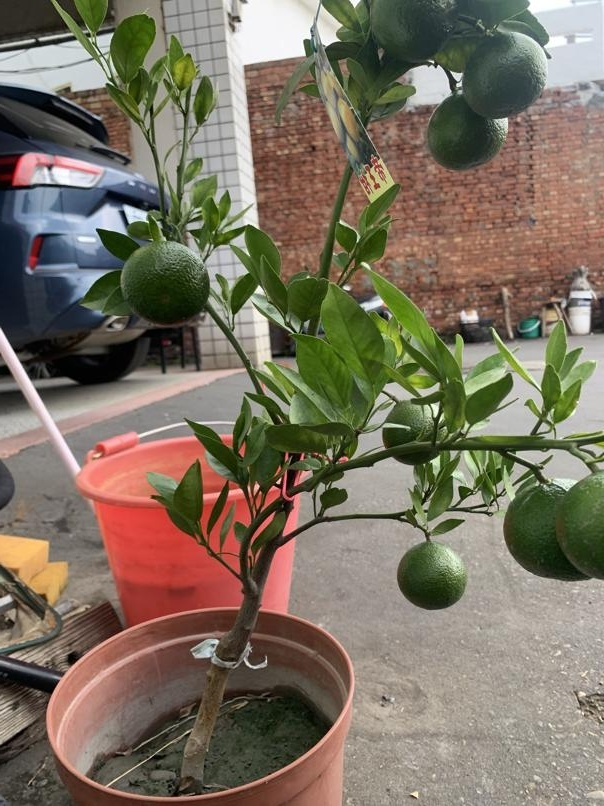Tangerine: (121, 235, 209, 327), (461, 32, 549, 121), (427, 92, 510, 166), (551, 463, 604, 575), (395, 533, 468, 609), (367, 0, 453, 64)
